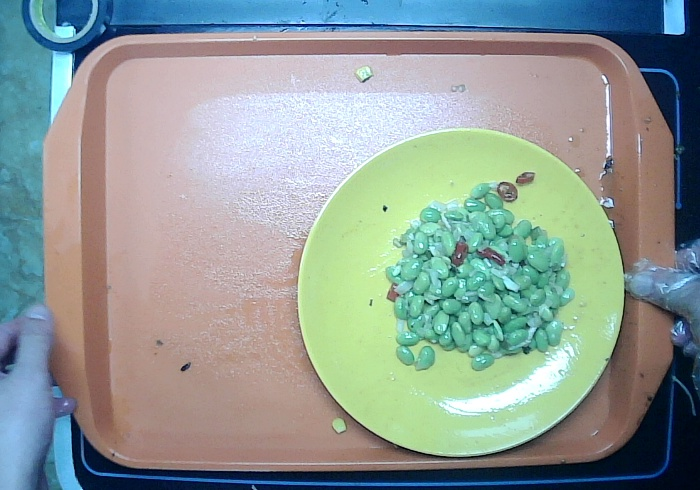HZYJPL-Huang_Se_Yuan_Pan: (295, 125, 626, 460)
